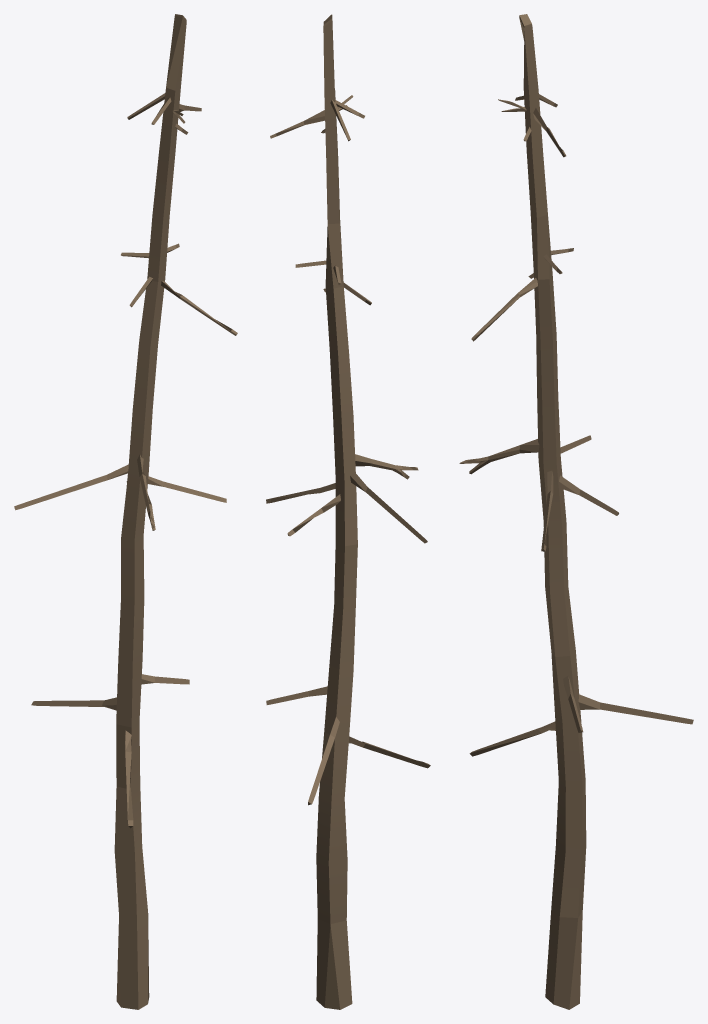
File: pine_bare_5.FBX
3 views of the same model, side by side, from view 1: azimuth 30°, elevation 25°; view 2: azimuth 150°, elevation 25°; view 3: azimuth 270°, elevation 25° (orthographic). The views are drawn at different scales.
Parts seen in each view (by area): view 1: pine_bare_5; view 2: pine_bare_5; view 3: pine_bare_5.
Boxes of the visible parts, box(x1,y1,x2,y2) form: pine_bare_5: box(14, 14, 237, 1009); pine_bare_5: box(266, 14, 430, 1009); pine_bare_5: box(459, 14, 693, 1009).
Size of the model in its own units: 1.44 by 7.26 by 1.54.
